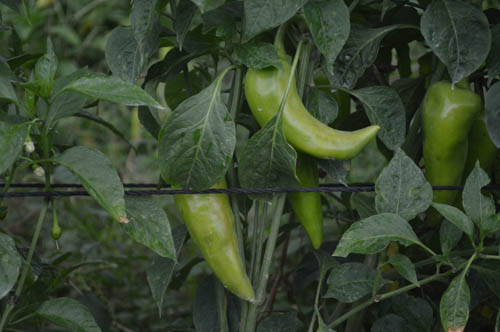ChiliPepper: (245, 48, 382, 163), (166, 154, 261, 306), (416, 73, 480, 225), (270, 151, 333, 253), (462, 100, 498, 189)
